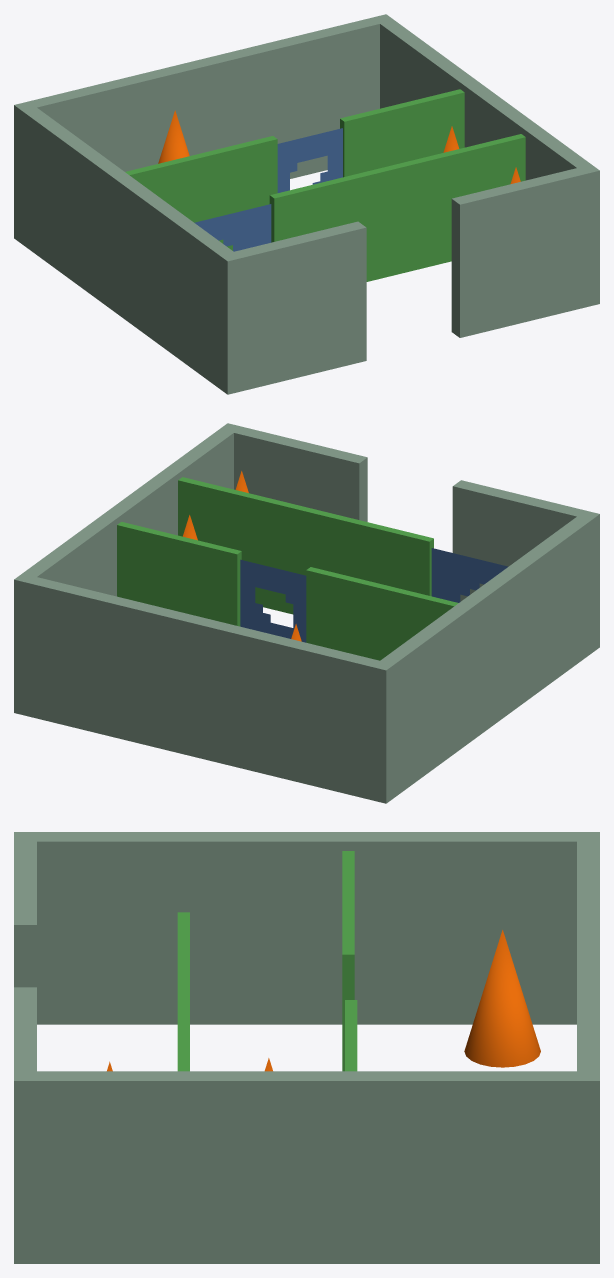
Rendered from Rect_Maze_Concept_v2.fbx.
3 renders of one model, top to bottom at view 1: azimuth 30°, elevation 25°; view 2: azimuth 150°, elevation 25°; view 3: azimuth 270°, elevation 25°, orthographic. The views are drawn at different scales.
Visible parts, largest first — view 1: outer_shell, wall_3, wall_2, wall_1, break_me_1, break_me_2, tower_2; view 2: outer_shell, wall_3, wall_1, wall_2, break_me_1, break_me_2; view 3: outer_shell, tower_2, wall_2, wall_3, wall_1.
Boxes of the visible parts, x1,y1,x2,y2 form: outer_shell: (14,14,599,394); wall_3: (269,134,525,281); wall_2: (125,136,277,250); wall_1: (340,89,464,177); break_me_1: (277,128,342,192); break_me_2: (194,204,271,251); tower_2: (158,110,189,163); outer_shell: (14,423,599,803); wall_3: (178,477,433,614); wall_1: (117,522,241,626); wall_2: (306,567,458,660); break_me_1: (240,559,306,642); break_me_2: (431,548,507,602); outer_shell: (14,832,599,1263); tower_2: (464,930,540,1067); wall_2: (342,851,354,1071); wall_3: (177,912,189,1071); wall_1: (345,1000,357,1071).
Size of the model in its own units: 14.47 by 4.95 by 14.38.
